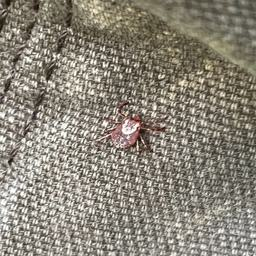Dermacentor variabilis: (96, 102, 167, 155)
